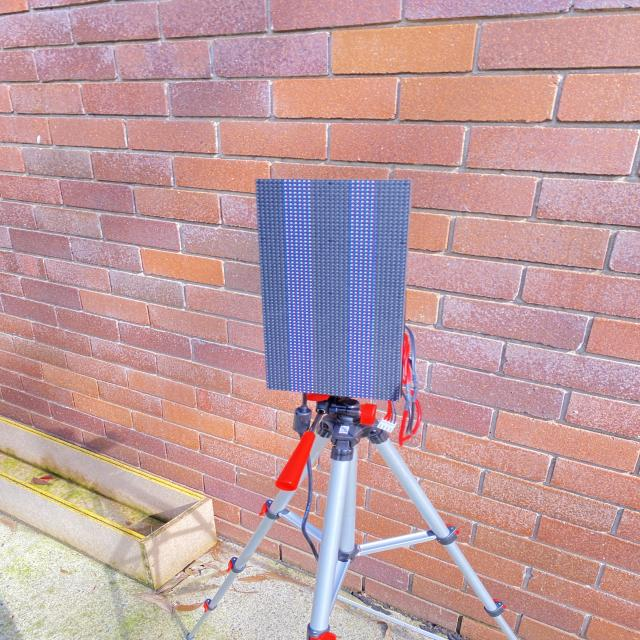matrix: (250, 174, 407, 405)
